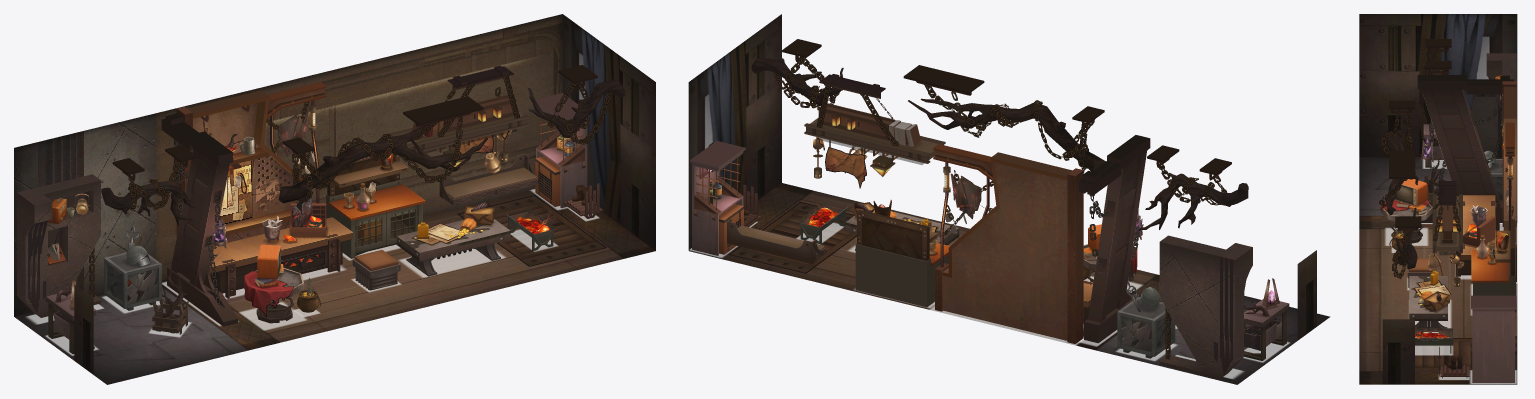
The model's file is ScarMarket.glb.
The picture shows the model from 3 angles, left to right: view 1: azimuth 30°, elevation 25°; view 2: azimuth 150°, elevation 25°; view 3: azimuth 270°, elevation 25°; orthographic projection. The views are drawn at different scales.
Visible parts, largest first — view 1: ROOM_room, ROOM_floor, furni_ScarMarket_storagewall_01, furni_ScarMarket_collectioncabinet_01, furni_ScarMarket_partitionwall_01, furni_ScarMarket_storagecabinet_01, furni_ScarMarket_stovetable_01, furni_ScarMarket_longstick_01, furni_ScarMarket_ceilinglamp_01, furni_ScarMarket_ironcabinet_01, furni_ScarMarket_carpet_01, furni_ScarMarket_table_01 (+25 smaller); view 2: furni_ScarMarket_storagewall_01, ROOM_room, furni_ScarMarket_collectioncabinet_01, ROOM_floor, furni_ScarMarket_partitionwall_01, furni_ScarMarket_storagecabinet_01, furni_ScarMarket_ceilinglamp_01, furni_ScarMarket_ironcabinet_01, furni_ScarMarket_longstick_01, furni_ScarMarket_carpet_01, furni_ScarMarket_shortstick_01, furni_ScarMarket_storagetable_01 (+15 smaller); view 3: ROOM_room, ROOM_floor, furni_ScarMarket_partitionwall_01, furni_ScarMarket_ironcabinet_01, furni_ScarMarket_storagecabinet_01, furni_ScarMarket_ceilinglamp_01, furni_ScarMarket_storagewall_01, ROOM_RDoor, furni_ScarMarket_stovetable_01, furni_ScarMarket_longstick_01, furni_ScarMarket_roundtable_01, furni_ScarMarket_table_01 (+24 smaller).
Part boxes in pixels (x1,y1,x2,y2): ROOM_room: (14, 14, 655, 316); ROOM_floor: (14, 190, 655, 384); furni_ScarMarket_storagewall_01: (176, 82, 326, 245); furni_ScarMarket_collectioncabinet_01: (17, 174, 100, 317); furni_ScarMarket_partitionwall_01: (161, 113, 237, 326); furni_ScarMarket_storagecabinet_01: (326, 152, 425, 258); furni_ScarMarket_stovetable_01: (210, 190, 352, 298); furni_ScarMarket_longstick_01: (278, 96, 487, 203); furni_ScarMarket_ceilinglamp_01: (389, 65, 529, 173); furni_ScarMarket_ironcabinet_01: (535, 93, 587, 208); furni_ScarMarket_carpet_01: (457, 195, 606, 266); furni_ScarMarket_table_01: (396, 218, 510, 276); furni_ScarMarket_storagewall_01: (933, 144, 1083, 343); ROOM_room: (688, 14, 781, 250); furni_ScarMarket_collectioncabinet_01: (1159, 235, 1252, 379); ROOM_floor: (689, 183, 1330, 384); furni_ScarMarket_partitionwall_01: (1078, 135, 1150, 343); furni_ScarMarket_storagecabinet_01: (855, 200, 949, 307); furni_ScarMarket_ceilinglamp_01: (804, 74, 945, 178); furni_ScarMarket_ironcabinet_01: (690, 141, 745, 255); furni_ScarMarket_longstick_01: (903, 65, 1105, 171); furni_ScarMarket_carpet_01: (728, 202, 856, 273); furni_ScarMarket_shortstick_01: (1138, 145, 1248, 231); furni_ScarMarket_storagetable_01: (1244, 278, 1289, 360); ROOM_room: (1359, 14, 1517, 157); ROOM_floor: (1359, 157, 1517, 384); furni_ScarMarket_partitionwall_01: (1417, 75, 1514, 222); furni_ScarMarket_ironcabinet_01: (1470, 295, 1516, 382); furni_ScarMarket_storagecabinet_01: (1471, 219, 1515, 295); furni_ScarMarket_ceilinglamp_01: (1428, 181, 1464, 286); furni_ScarMarket_storagewall_01: (1502, 81, 1516, 281); ROOM_RDoor: (1382, 319, 1414, 384); furni_ScarMarket_stovetable_01: (1456, 195, 1499, 276); furni_ScarMarket_longstick_01: (1385, 100, 1418, 214); furni_ScarMarket_roundtable_01: (1381, 179, 1432, 250); furni_ScarMarket_table_01: (1409, 270, 1447, 331).
Size of the model in its own units: 7.52 by 2.2 by 2.25.
Materials: 7 (7 with a texture image).
